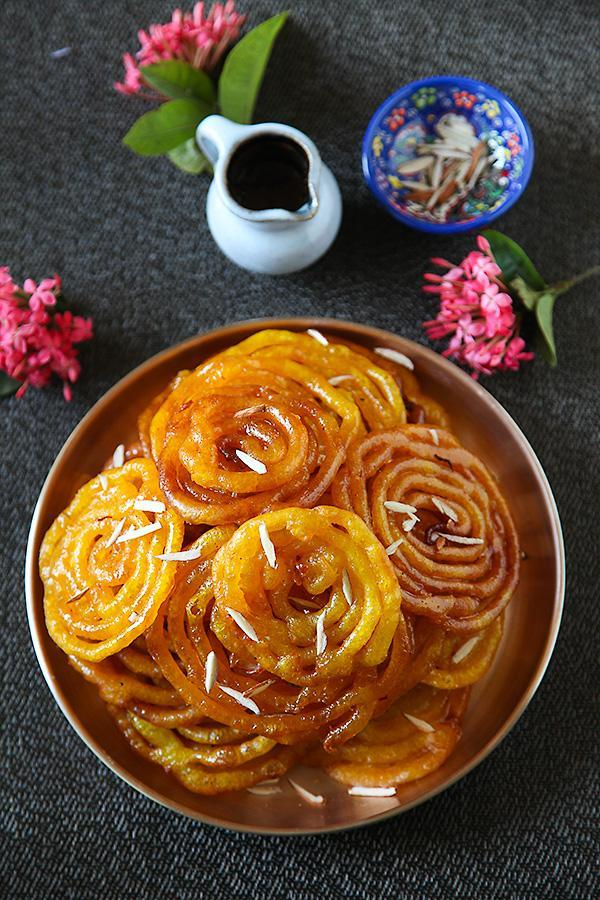jalebi: (43, 344, 535, 810)
